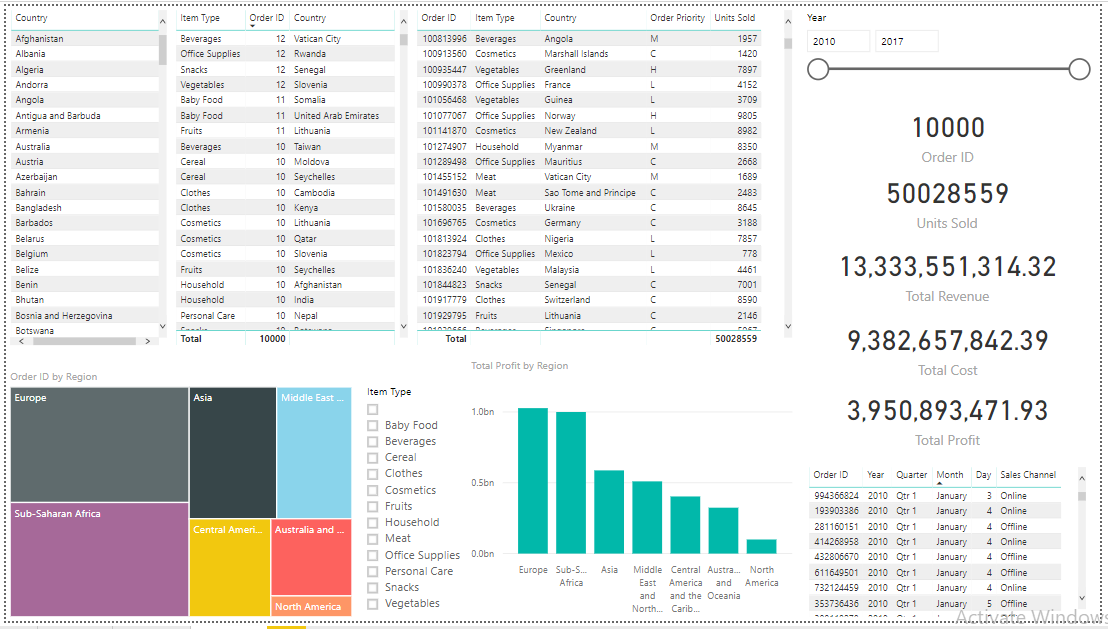

The dashboard page shown, as its layout file describes it:
{"tool":"powerbi","page":{"name":"Page 3","canvas":[1280,720],"ordinal":4},"visuals":[{"type":"card","fields":{"Values":["Sum(Sales Records.Units Sold)"]},"box":[995.3,190,213.4,75.7],"z":4},{"type":"treemap","fields":{"Group":["Sales Records.Region"],"Values":["CountNonNull(Sales Records.Order ID)"]},"box":[0,425.4,410.2,294.6],"z":4},{"type":"tableEx","fields":{"Values":["Sales Records.Item Type","Sales Records.Order ID","Sales Records.Country"]},"box":[192.7,0,282.2,402],"z":6},{"type":"slicer","fields":{"Values":["Sales Records.Order Date.Variation.Date Hierarchy.Year"]},"box":[925.1,0,355.2,101.9],"z":6},{"type":"tableEx","fields":{"Values":["Sales Records.Order ID","Sales Records.Item Type","Sales Records.Country","Sales Records.Order Priority","Sum(Sales Records.Units Sold)"]},"box":[475,0,450.2,402],"z":7},{"type":"card","fields":{"Values":["Sum(Sales Records.Total Revenue)"]},"box":[960,274,284.5,77.3],"z":7},{"type":"tableEx","fields":{"Values":["Sales Records.Country"]},"box":[0,0,192.7,402],"z":8},{"type":"card","fields":{"Values":["Sum(Sales Records.Total Cost)"]},"box":[946,360.6,312.6,77.3],"z":8},{"type":"slicer","fields":{"Values":["Sales Records.Item Type"]},"box":[409.8,437.9,130,282.1],"z":8},{"type":"card","fields":{"Values":["Sum(Sales Records.Total Profit)"]},"box":[954.1,442.5,296.2,77.3],"z":9},{"type":"card","fields":{"Values":["CountNonNull(Sales Records.Order ID)"]},"box":[1038.4,111.2,127.6,78.4],"z":10},{"type":"clusteredColumnChart","fields":{"Category":["Sales Records.Region"],"Y":["Sum(Sales Records.Total Profit)"]},"box":[539.7,412.1,386.3,307.9],"z":12},{"type":"tableEx","fields":{"Values":["Sales Records.Order ID","Sales Records.Order Date.Variation.Date Hierarchy.Year","Sales Records.Order Date.Variation.Date Hierarchy.Quarter","Sales Records.Order Date.Variation.Date Hierarchy.Month","Sales Records.Order Date.Variation.Date Hierarchy.Day","Sales Records.Sales Channel"]},"box":[934.2,535,334.8,185],"z":13}]}

Visuals, with their boxes on the page's 1280x720 design canvas (x1, y1, x2, y2). These are canvas units, not pixel positions in the 1108x629 screenshot, which may show the page scaled, cropped or inside an application window:
card - Sum(Sales Records.Units Sold): 995 190 1209 266
treemap - Sales Records.Region x CountNonNull(Sales Records.Order ID): 0 425 410 720
tableEx - Sales Records.Item Type x Sales Records.Order ID: 193 0 475 402
slicer - Sales Records.Order Date.Variation.Date Hierarchy.Year: 925 0 1280 102
tableEx - Sales Records.Order ID x Sales Records.Item Type: 475 0 925 402
card - Sum(Sales Records.Total Revenue): 960 274 1244 351
tableEx - Sales Records.Country: 0 0 193 402
card - Sum(Sales Records.Total Cost): 946 361 1259 438
slicer - Sales Records.Item Type: 410 438 540 720
card - Sum(Sales Records.Total Profit): 954 442 1250 520
card - CountNonNull(Sales Records.Order ID): 1038 111 1166 190
clusteredColumnChart - Sales Records.Region x Sum(Sales Records.Total Profit): 540 412 926 720
tableEx - Sales Records.Order ID x Sales Records.Order Date.Variation.Date Hierarchy.Year: 934 535 1269 720
